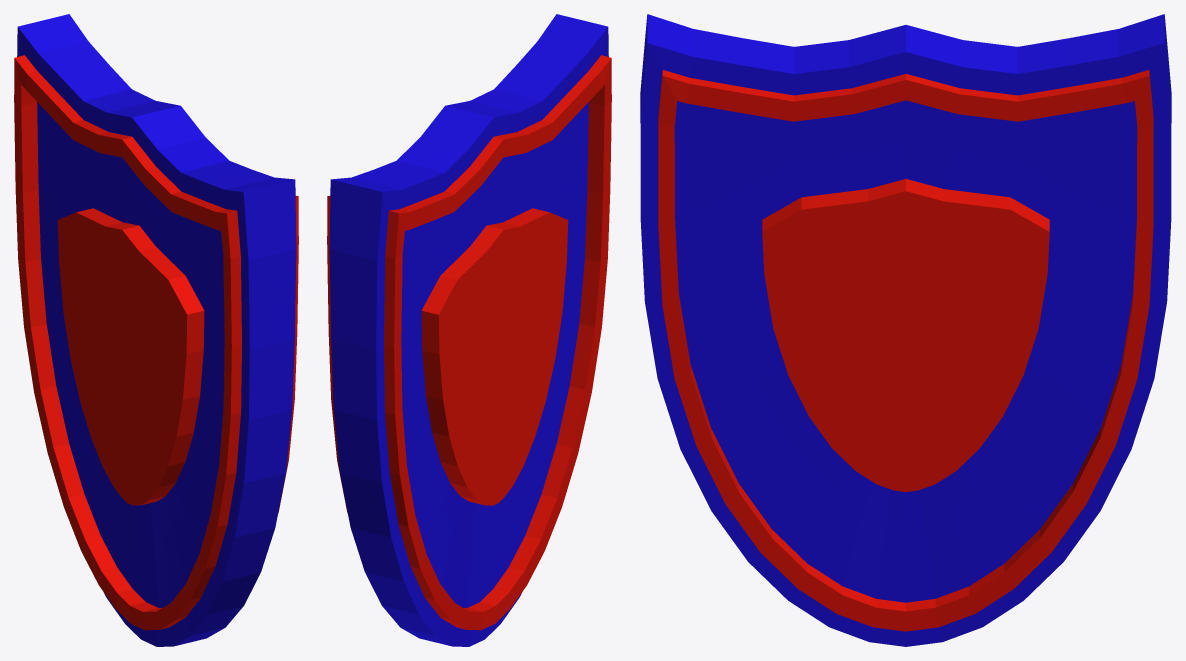
Rendered from shield.fbx.
3 renders of one model, left to right at view 1: azimuth 30°, elevation 25°; view 2: azimuth 150°, elevation 25°; view 3: azimuth 270°, elevation 25°, orthographic. The views are drawn at different scales.
Visible parts, largest first — view 1: Shield; view 2: Shield; view 3: Shield.
Part boxes in pixels (x1,y1,x2,y2): Shield: (14,14,298,646); Shield: (327,14,611,646); Shield: (640,14,1171,646).
Size of the model in its own units: 21.22 by 144 by 114.
